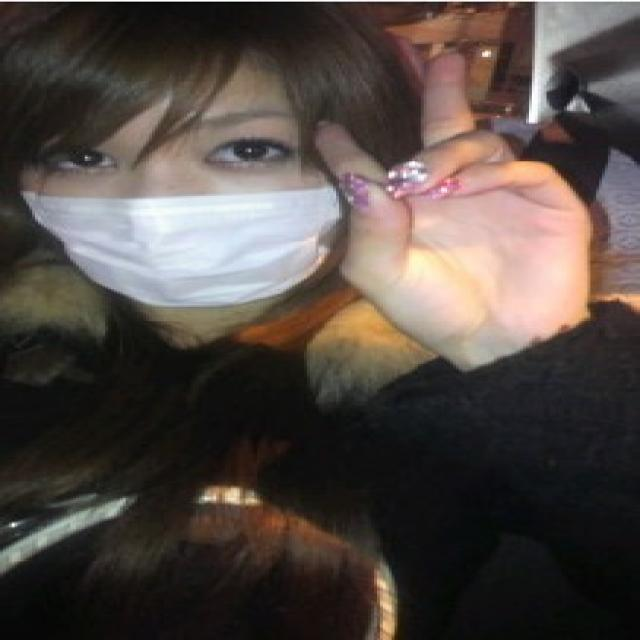mask: (25, 35, 343, 301)
